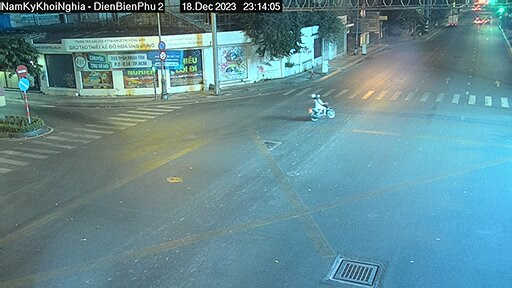motorbike: (301, 89, 338, 117)
